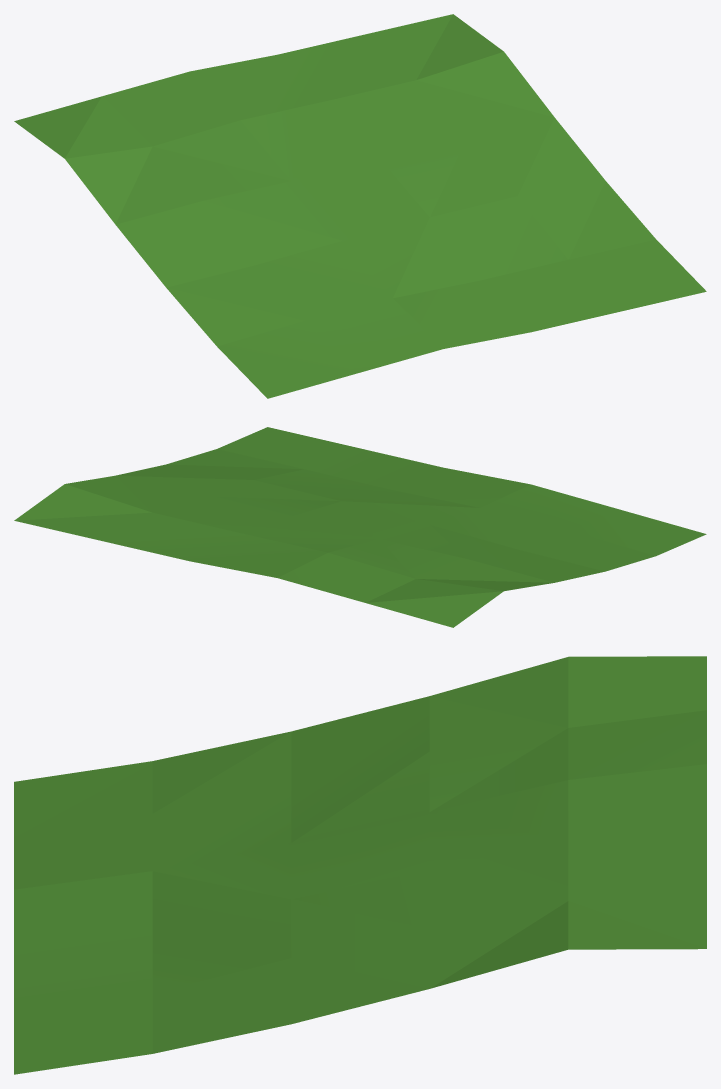
The model's file is terrains_terrain-plane-slope2.fbx.
3 views of the same model, one above another, from view 1: azimuth 30°, elevation 25°; view 2: azimuth 150°, elevation 25°; view 3: azimuth 270°, elevation 25° (orthographic). The views are drawn at different scales.
Visible parts, largest first — view 1: terrains_terrain_plane_slope2; view 2: terrains_terrain_plane_slope2; view 3: terrains_terrain_plane_slope2.
Boxes of the visible parts, x1,y1,x2,y2 form: terrains_terrain_plane_slope2: (14,14,706,398); terrains_terrain_plane_slope2: (14,427,706,627); terrains_terrain_plane_slope2: (14,656,706,1074).
Size of the model in its own units: 200 by 43 by 200.
